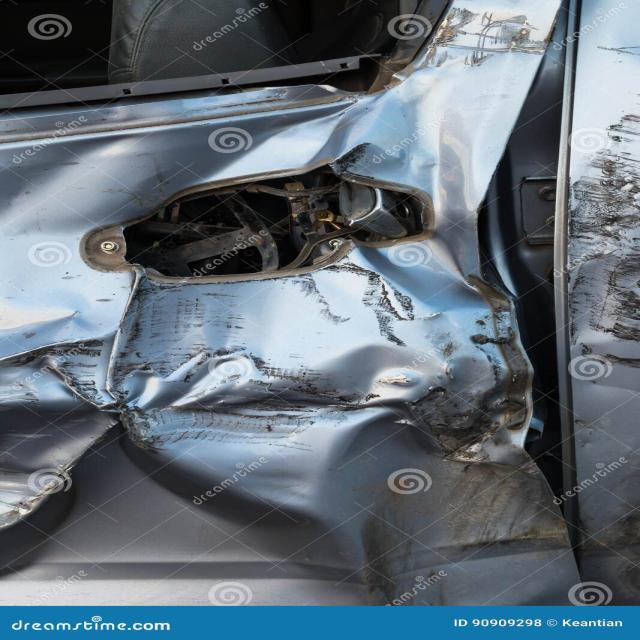crush: (0, 0, 640, 611)
